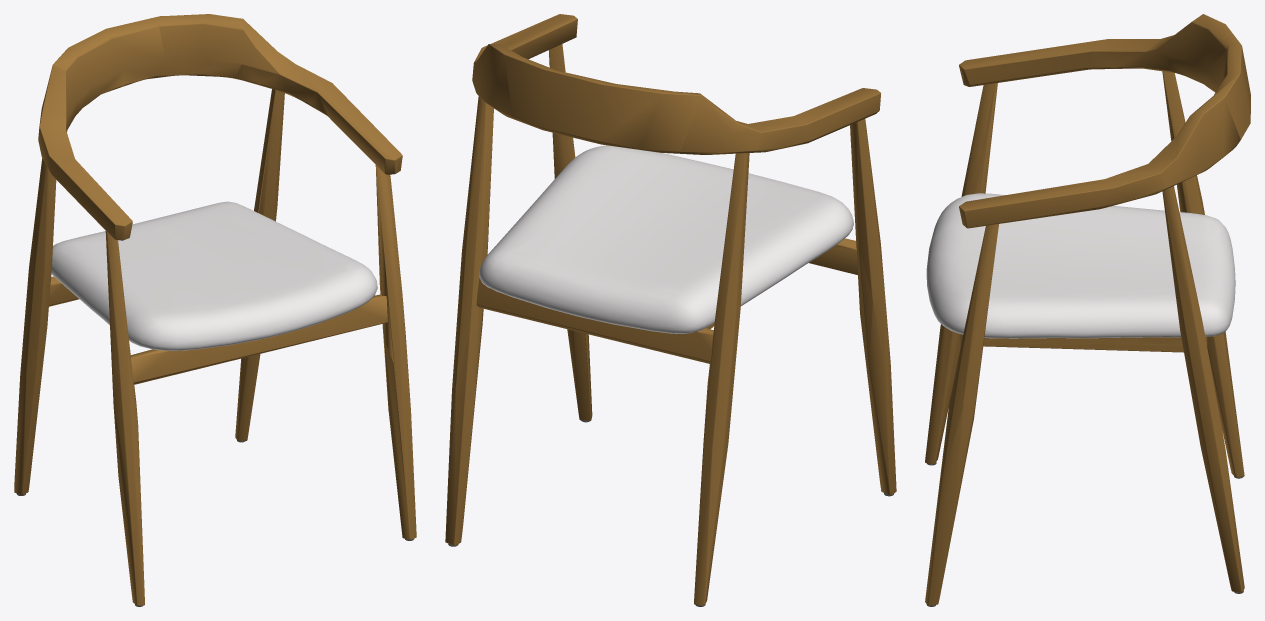
The model's file is wooden_fabric_armchair.glb.
3 views of the same model, side by side, from view 1: azimuth 30°, elevation 25°; view 2: azimuth 150°, elevation 25°; view 3: azimuth 270°, elevation 25° (orthographic). The views are drawn at different scales.
Visible parts, largest first — view 1: a885b2ad-0560-4188-b574-39eba663f3fa, a717e2b8_4ceb_4c23_b05b_9f8fab04f260; view 2: a885b2ad-0560-4188-b574-39eba663f3fa, a717e2b8_4ceb_4c23_b05b_9f8fab04f260; view 3: a885b2ad-0560-4188-b574-39eba663f3fa, a717e2b8_4ceb_4c23_b05b_9f8fab04f260.
Part boxes in pixels (box(x1,y1,x2,y2)): a885b2ad-0560-4188-b574-39eba663f3fa: box(14, 14, 416, 605); a717e2b8_4ceb_4c23_b05b_9f8fab04f260: box(51, 201, 377, 350); a885b2ad-0560-4188-b574-39eba663f3fa: box(445, 14, 896, 605); a717e2b8_4ceb_4c23_b05b_9f8fab04f260: box(479, 145, 853, 333); a885b2ad-0560-4188-b574-39eba663f3fa: box(925, 14, 1250, 605); a717e2b8_4ceb_4c23_b05b_9f8fab04f260: box(926, 193, 1235, 338).
Size of the model in its own units: 0.5366 by 0.7789 by 0.4828.
4 materials, 1 textured.
